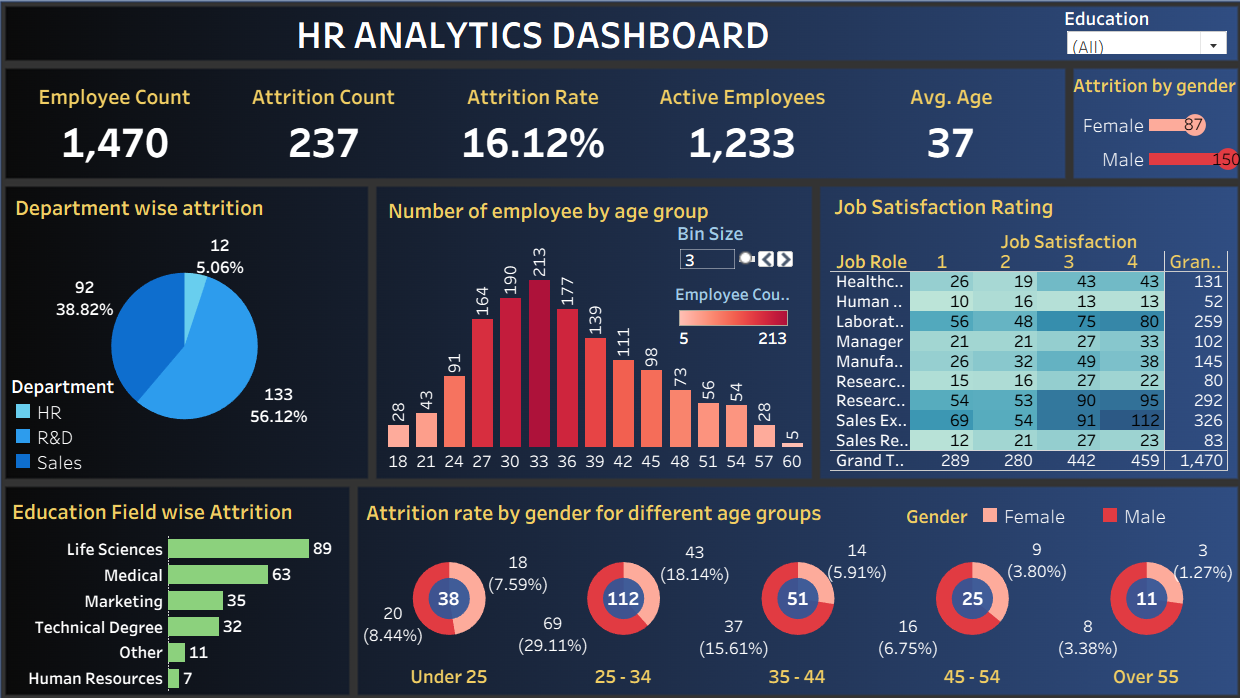

The page's visual inventory and layout, read from the dashboard file:
{"tool":"tableau","page":{"name":"HR Analytics Dashboard","canvas":[1300,750],"ordinal":0},"visuals":[{"type":"image","param":"C:/Users/priya/Desktop/DataAnalyst/Projects/HR/bg.png","box":[8,8,32,734]},{"type":"image","param":"C:/Users/priya/Desktop/DataAnalyst/Projects/HR-Analytics/bg.png","box":[40,8,1252,734]},{"type":"filter","title":"Department wise attrition","param":"[federated.01a4qxa0r0s1iv17nqo211qgbk68].[none:Education:nk]","box":[1109,30,166,49]},{"type":"text","box":[306,34,777,49]},{"type":"worksheet","title":"Attrition by gender","mark":"Automatic","rows":["Gender"],"cols":["Calculation_347340138956005376","Calculation_347340138956005376"],"box":[1114,93,174,108]},{"type":"worksheet","title":"KPI","mark":"Automatic","box":[55,95,1046,103]},{"type":"worksheet","title":"Job Satisfaction Rating","mark":"Square","rows":["Job Role"],"cols":["Job Satisfaction"],"box":[875,213,399,283]},{"type":"worksheet","title":"Department wise attrition","mark":"Pie","box":[56,214,347,271]},{"type":"worksheet","title":"Number of employee by age group","mark":"Automatic","rows":["Employee Count"],"cols":["Age (bin)"],"box":[429,217,423,281]},{"type":"parameter","param":"[Parameters].[Parameter 1]","box":[722,245,119,61]},{"type":"legend","title":"Number of employee by age group","param":"[federated.01a4qxa0r0s1iv17nqo211qgbk68].[sum:Employee Count:qk]","box":[720,308,117,68]},{"type":"legend","title":"Department wise attrition","param":"[federated.01a4qxa0r0s1iv17nqo211qgbk68].[none:Department:nk]","box":[56,398,123,103]},{"type":"worksheet","title":"Education Field wise Attrition","mark":"Automatic","rows":["Education Field"],"cols":["Calculation_347340138956005376"],"box":[53,518,337,198]},{"type":"worksheet","title":"Attrition rate by gender for different age groups","mark":"Pie","rows":["Calculation_347340139248201732","Calculation_347340139248201732"],"cols":["CF_age band"],"box":[407,519,872,195]},{"type":"legend","title":"Attrition rate by gender for different age groups","param":"[federated.01a4qxa0r0s1iv17nqo211qgbk68].[none:Gender:nk]","box":[951,528,338,31]}]}

Visuals, with their boxes in screenshot pixels (x1, y1, x2, y2), scaled from the page's 1300x750 canvas onto the 1240x698 screenshot:
image: [left=8, top=7, right=38, bottom=691]
image: [left=38, top=7, right=1232, bottom=691]
"Department wise attrition" filter: [left=1058, top=28, right=1216, bottom=74]
text: [left=292, top=32, right=1033, bottom=77]
"Attrition by gender" worksheet: [left=1063, top=87, right=1229, bottom=187]
"KPI" worksheet: [left=52, top=88, right=1050, bottom=184]
"Job Satisfaction Rating" worksheet (Square marks): [left=835, top=198, right=1215, bottom=462]
"Department wise attrition" worksheet (Pie marks): [left=53, top=199, right=384, bottom=451]
"Number of employee by age group" worksheet: [left=409, top=202, right=813, bottom=463]
parameter: [left=689, top=228, right=802, bottom=285]
"Number of employee by age group" legend: [left=687, top=287, right=798, bottom=350]
"Department wise attrition" legend: [left=53, top=370, right=171, bottom=466]
"Education Field wise Attrition" worksheet: [left=51, top=482, right=372, bottom=666]
"Attrition rate by gender for different age groups" worksheet (Pie marks): [left=388, top=483, right=1220, bottom=664]
"Attrition rate by gender for different age groups" legend: [left=907, top=491, right=1230, bottom=520]
